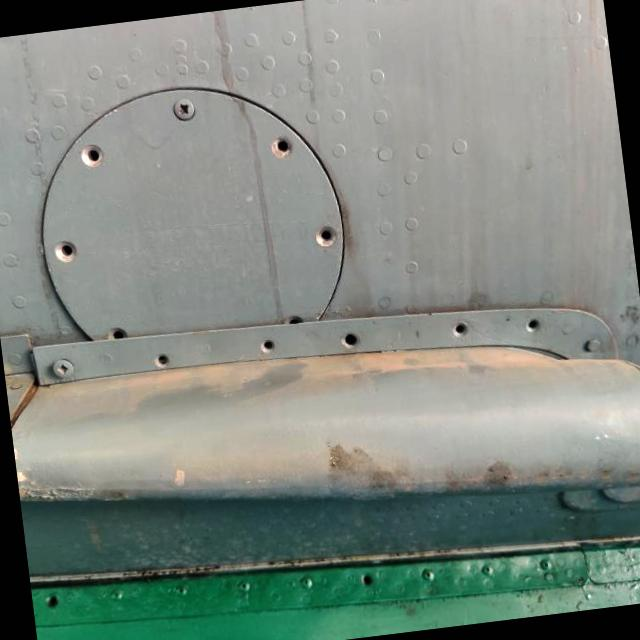Missing Fastener: (72, 142, 105, 172), (36, 586, 64, 616), (269, 134, 296, 162), (354, 566, 380, 594), (52, 239, 78, 264), (274, 310, 306, 326), (316, 226, 336, 245), (341, 331, 360, 350), (450, 320, 470, 338), (110, 324, 130, 340), (154, 352, 169, 367), (258, 338, 274, 352), (529, 317, 539, 329)
